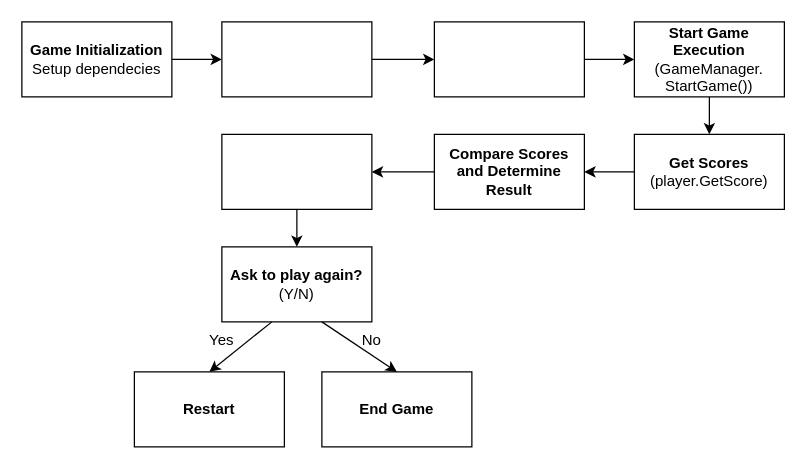
Image size: 806x469. Some labels were removed from this diagram. The centre of each missing label's shape, as x and y in pixels:
"Create Players (Factory)" goes at point (508, 59).
"Prompt for player names" goes at point (296, 59).
"Save Results (Database)" goes at point (296, 171).
